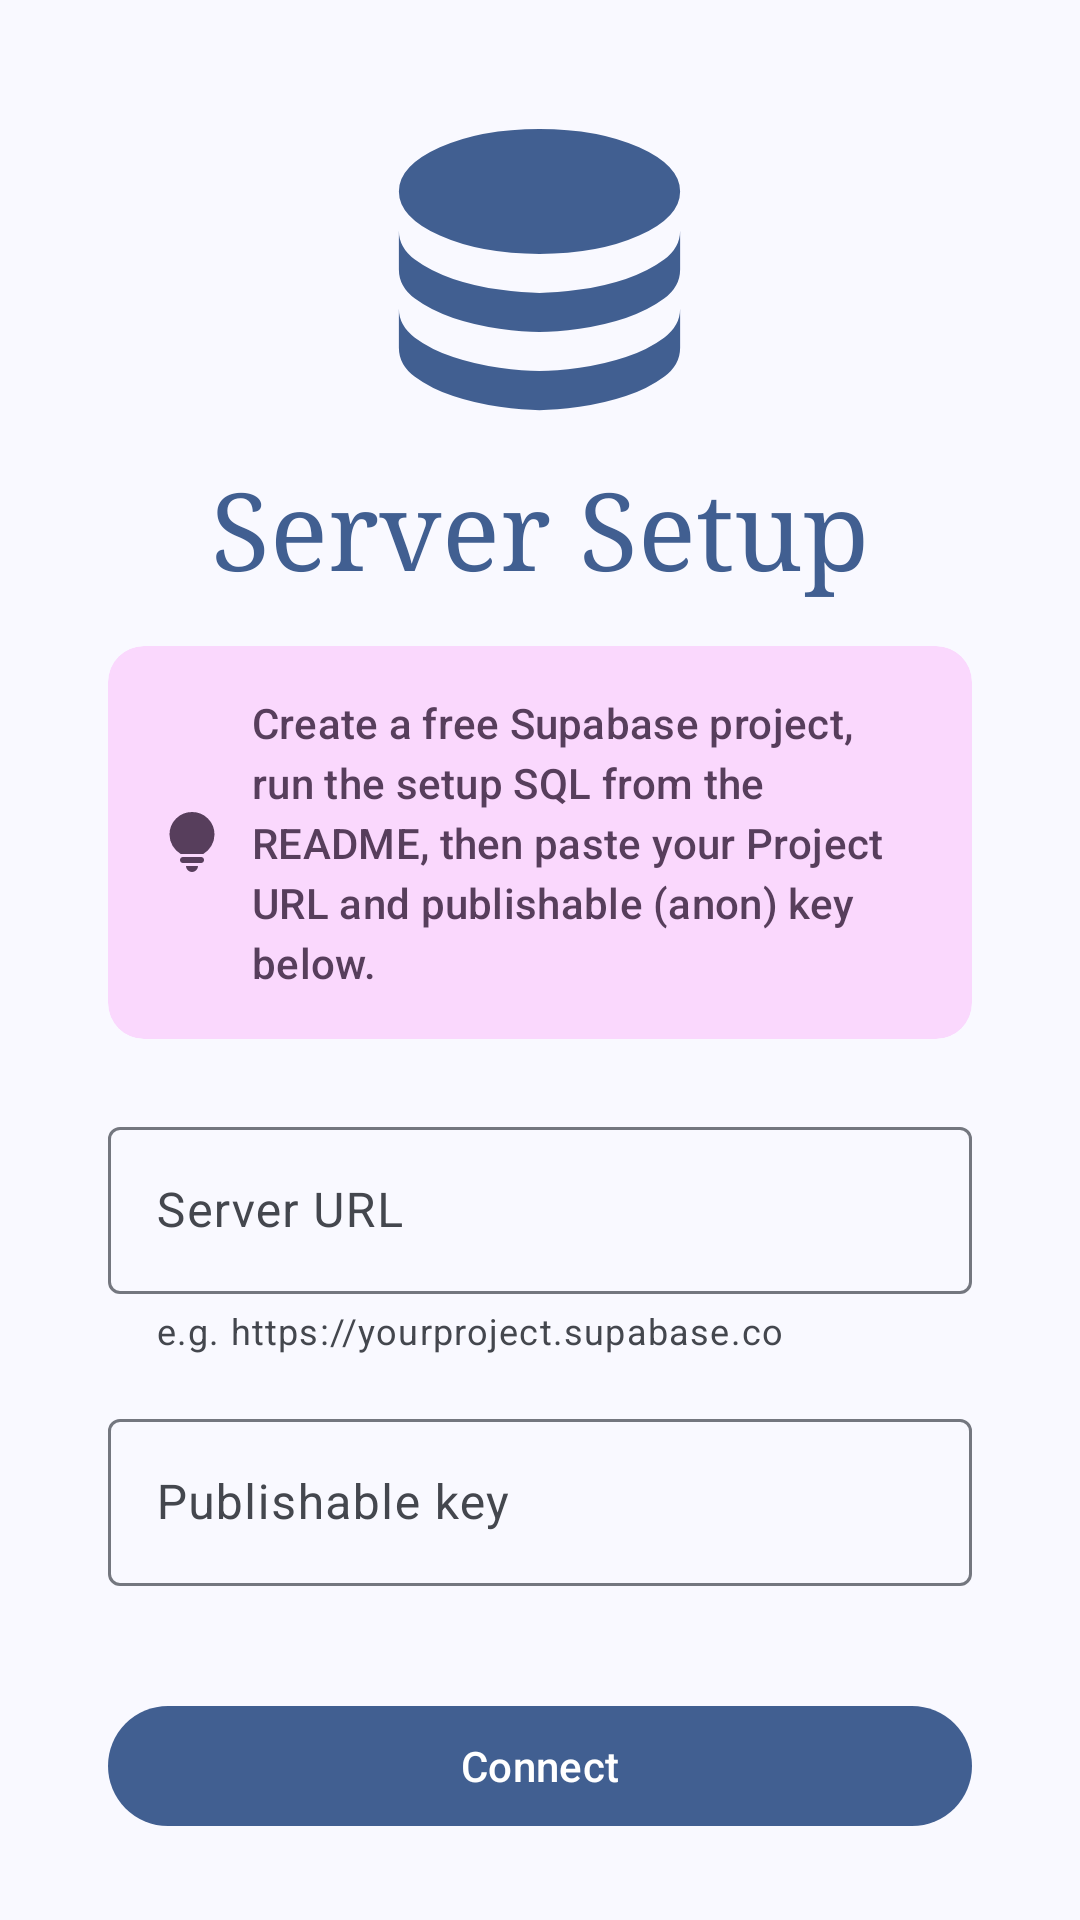

Icons on this 1080×1920 Android screen, each with the point to tap as point (x, y):
database: point (539, 270)
lightbulb: point (192, 842)
